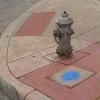a fire hydrant: (53, 12, 76, 60)
